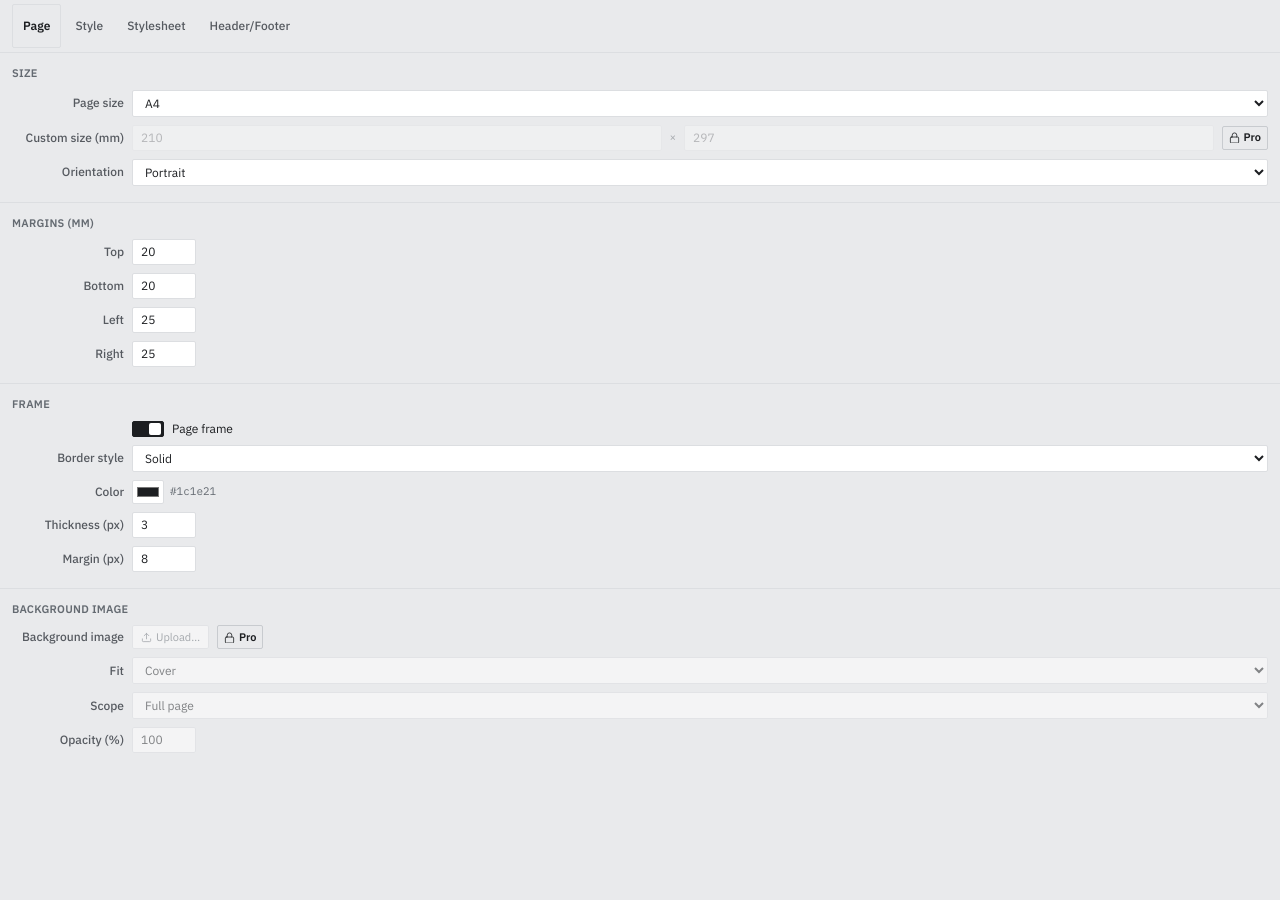
Test: Inspector tabs › renders the four tabs and swaps panels
expect the tab "Page" is shown: met, box [12,4,61,48]
Step 1. Click the tab "Style" → (89, 26), box [65,4,113,48]
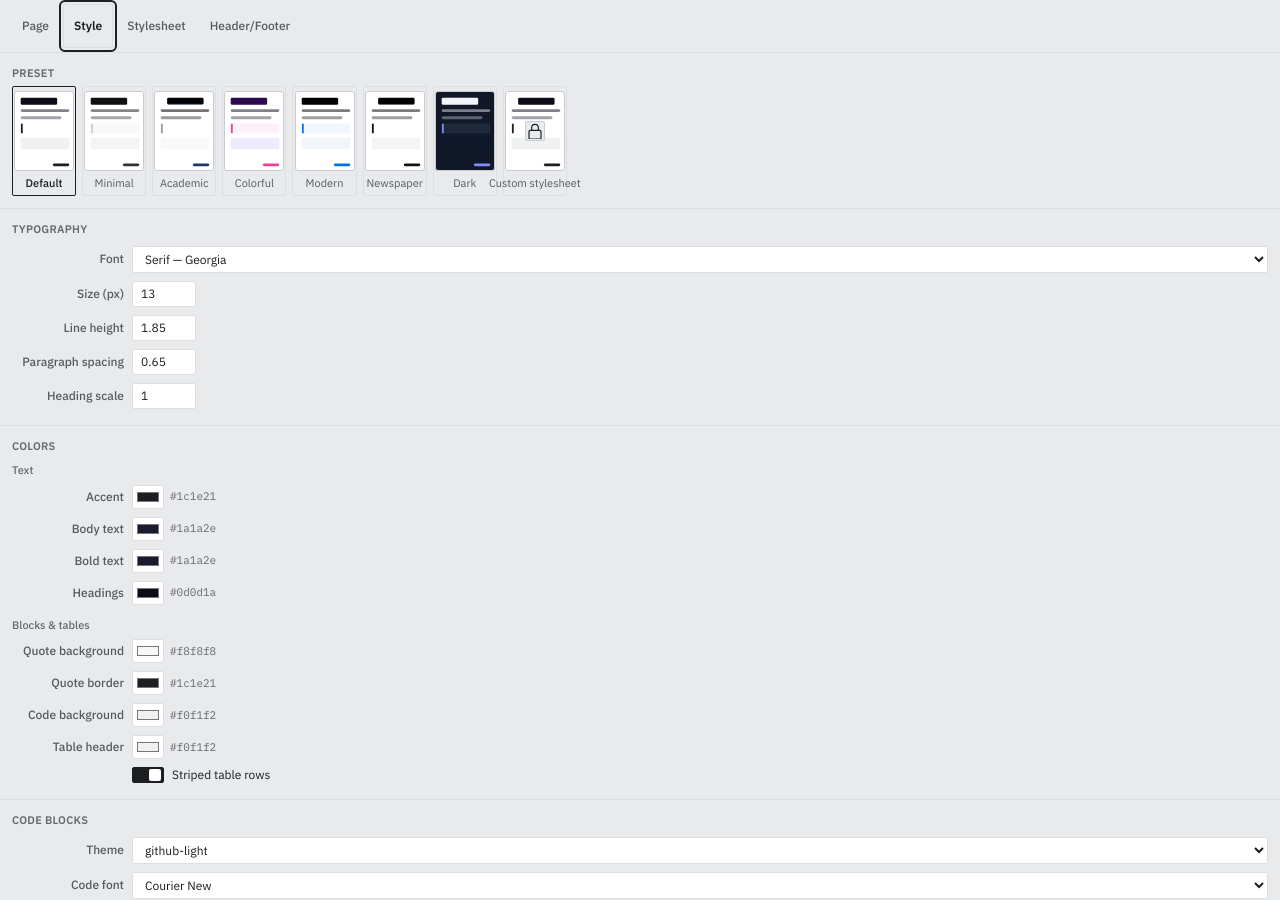
expect the panel named "Style settings" is shown: met
Step 2. Click the tab with aria-label "Custom stylesheet" → (156, 26), box [117,4,196,48]
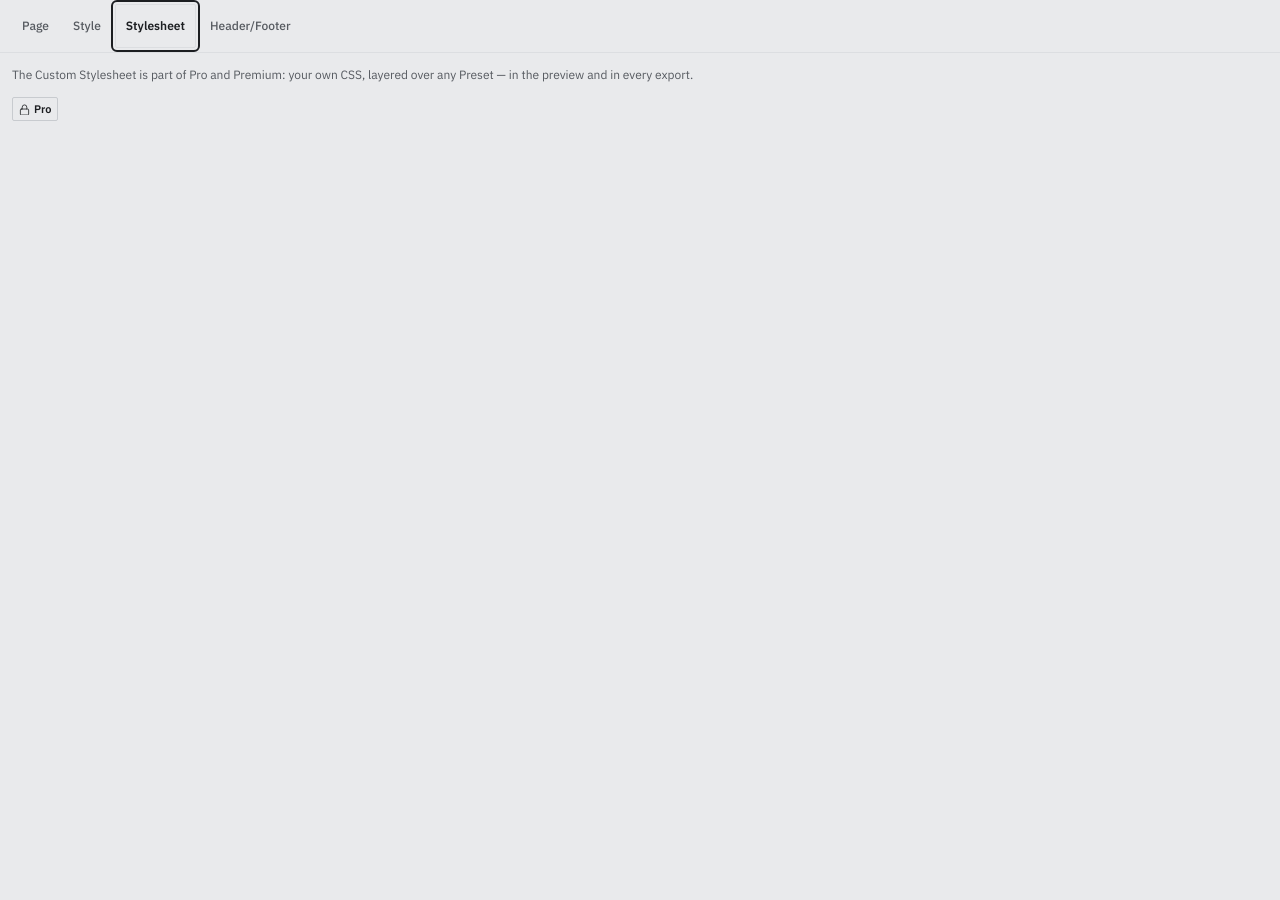
expect the panel named "Custom stylesheet settings" is shown: met, box [12,67,693,121]
Step 3. Click the tab "Header/Footer" → (250, 26), box [200,4,300,48]
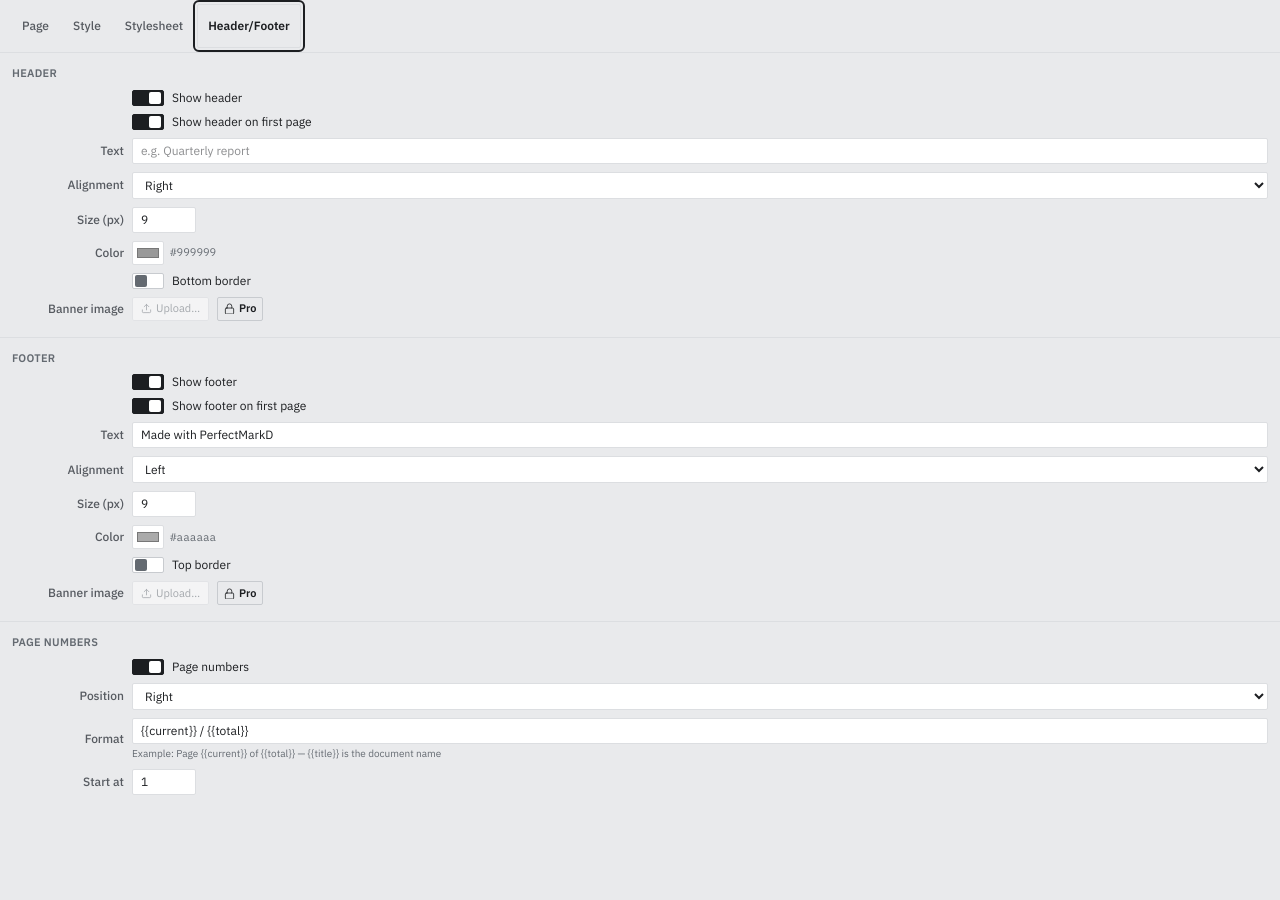
expect the panel named "Header/Footer settings" is shown: met
